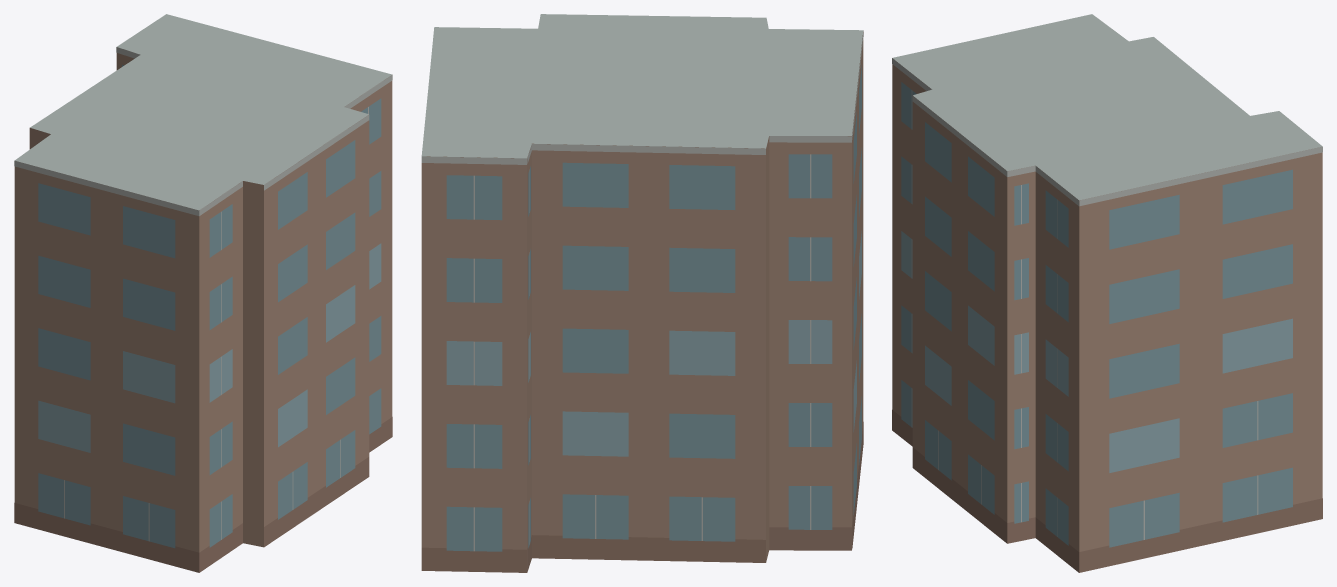
The model's file is survey-upis-32988151.glb.
The picture shows the model from 3 angles, left to right: view 1: azimuth 30°, elevation 25°; view 2: azimuth 150°, elevation 25°; view 3: azimuth 270°, elevation 25°; orthographic projection. The views are drawn at different scales.
Visible parts, largest first — view 1: survey-upis-32988151.tmp; view 2: survey-upis-32988151.tmp; view 3: survey-upis-32988151.tmp.
Boxes of the visible parts, x1,y1,x2,y2 form: survey-upis-32988151.tmp: [14, 14, 392, 572]; survey-upis-32988151.tmp: [421, 14, 863, 572]; survey-upis-32988151.tmp: [892, 14, 1322, 572].
Size of the model in its own units: 16.38 by 15.25 by 15.99.
